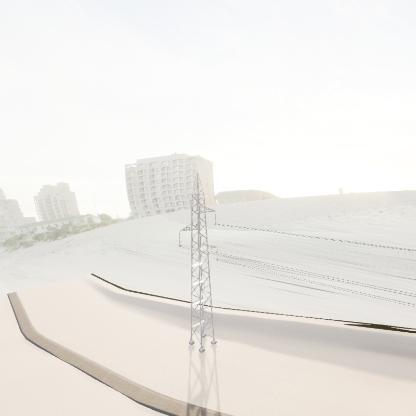tower: (175, 164, 224, 354)
